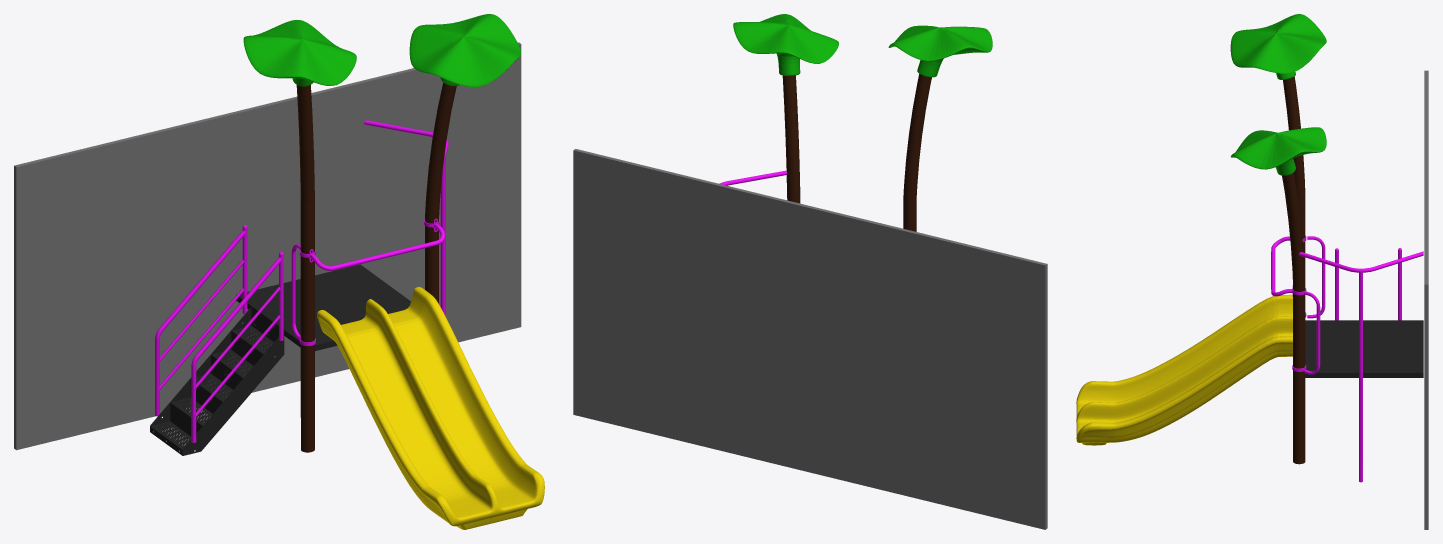
Rendered from 16092-Mangrullo Muro C.FBX.
The picture shows the model from 3 angles, left to right: view 1: azimuth 30°, elevation 25°; view 2: azimuth 150°, elevation 25°; view 3: azimuth 270°, elevation 25°; orthographic projection. The views are drawn at different scales.
Bounding box in the file's own units: 184 × 148 × 128.
